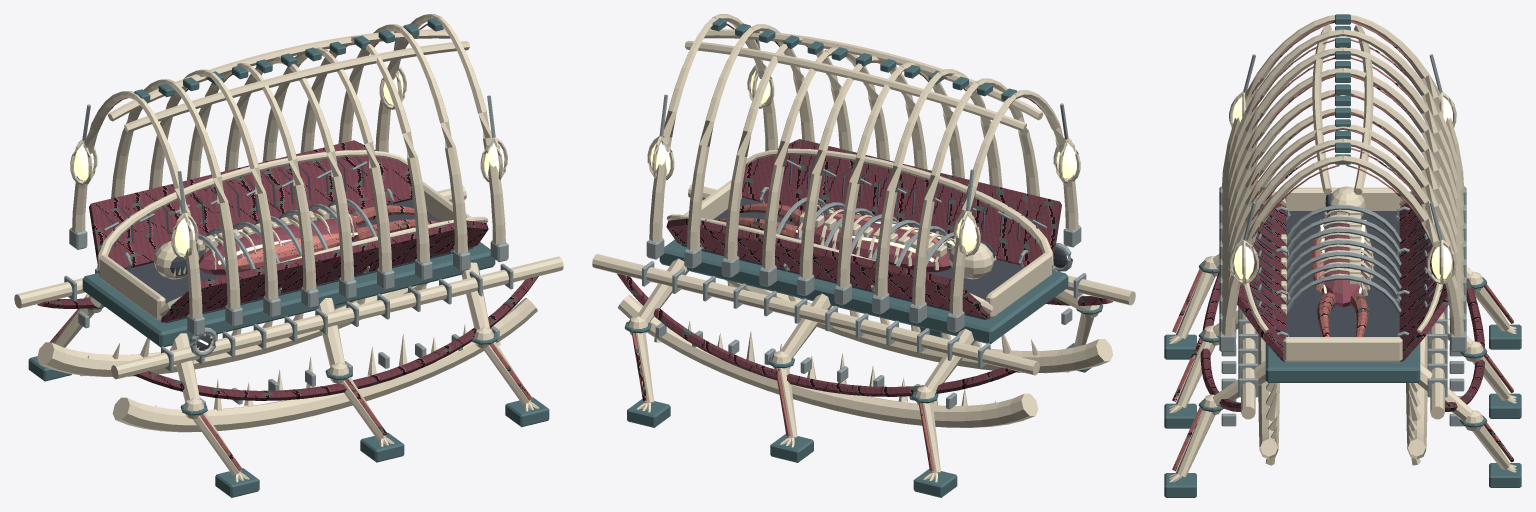
Rendered from ossified_palanquin.glb.
3 renders of one model, left to right at view 1: azimuth 30°, elevation 25°; view 2: azimuth 150°, elevation 25°; view 3: azimuth 270°, elevation 25°, orthographic. The views are drawn at different scales.
Parts seen in each view (by area): view 1: ossified_palanquin_warm, ossified_palanquin_bruised, ossified_palanquin_petrol, ossified_palanquin_worn, ossified_palanquin_deep, ossified_palanquin_suture, ossified_palanquin_sick; view 2: ossified_palanquin_warm, ossified_palanquin_bruised, ossified_palanquin_petrol, ossified_palanquin_worn, ossified_palanquin_deep, ossified_palanquin_suture, ossified_palanquin_sick; view 3: ossified_palanquin_warm, ossified_palanquin_worn, ossified_palanquin_bruised, ossified_palanquin_petrol, ossified_palanquin_deep, ossified_palanquin_suture, ossified_palanquin_sick.
Part boxes in pixels (left/top/right/bottom): ossified_palanquin_warm: left=14, top=14, right=563, bottom=482; ossified_palanquin_bruised: left=37, top=140, right=538, bottom=400; ossified_palanquin_petrol: left=28, top=18, right=549, bottom=497; ossified_palanquin_worn: left=64, top=40, right=513, bottom=404; ossified_palanquin_deep: left=98, top=147, right=473, bottom=350; ossified_palanquin_suture: left=50, top=23, right=532, bottom=471; ossified_palanquin_sick: left=74, top=71, right=504, bottom=345; ossified_palanquin_warm: left=592, top=14, right=1135, bottom=482; ossified_palanquin_bruised: left=617, top=139, right=1112, bottom=396; ossified_palanquin_petrol: left=624, top=18, right=1103, bottom=497; ossified_palanquin_worn: left=642, top=39, right=1086, bottom=409; ossified_palanquin_deep: left=681, top=145, right=1067, bottom=319; ossified_palanquin_suture: left=631, top=23, right=1042, bottom=470; ossified_palanquin_sick: left=650, top=70, right=1076, bottom=262; ossified_palanquin_warm: left=1169, top=14, right=1516, bottom=482; ossified_palanquin_worn: left=1219, top=54, right=1466, bottom=426; ossified_palanquin_bruised: left=1200, top=181, right=1485, bottom=411; ossified_palanquin_petrol: left=1164, top=14, right=1521, bottom=497; ossified_palanquin_deep: left=1243, top=193, right=1442, bottom=361; ossified_palanquin_suture: left=1172, top=21, right=1513, bottom=471; ossified_palanquin_sick: left=1234, top=97, right=1451, bottom=293.
Size of the model in its own units: 7.28 by 5.33 by 5.17.
Materials: 7 (2 with a texture image).
